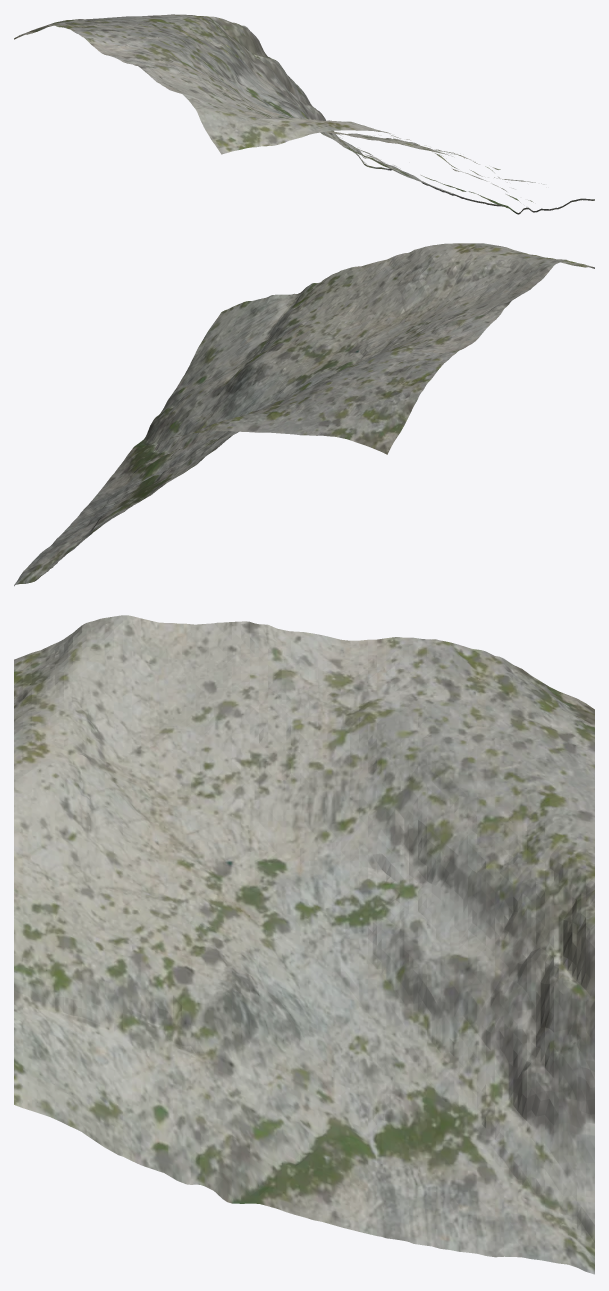
3 renders of one model, top to bottom at view 1: azimuth 30°, elevation 25°; view 2: azimuth 150°, elevation 25°; view 3: azimuth 270°, elevation 25°, orthographic. The views are drawn at different scales.
Bounding box in the file's own units: 250 × 186 × 241.
1 material, 1 textured.
